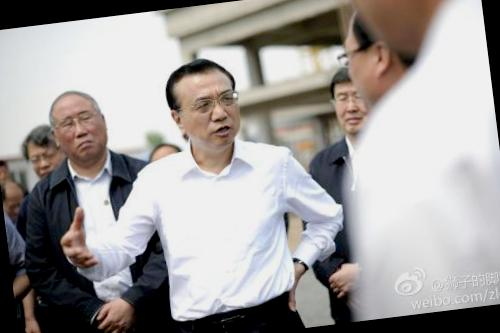no_helmet: (157, 48, 250, 156), (333, 0, 416, 115), (43, 81, 115, 168), (325, 62, 368, 136), (21, 119, 65, 183)
